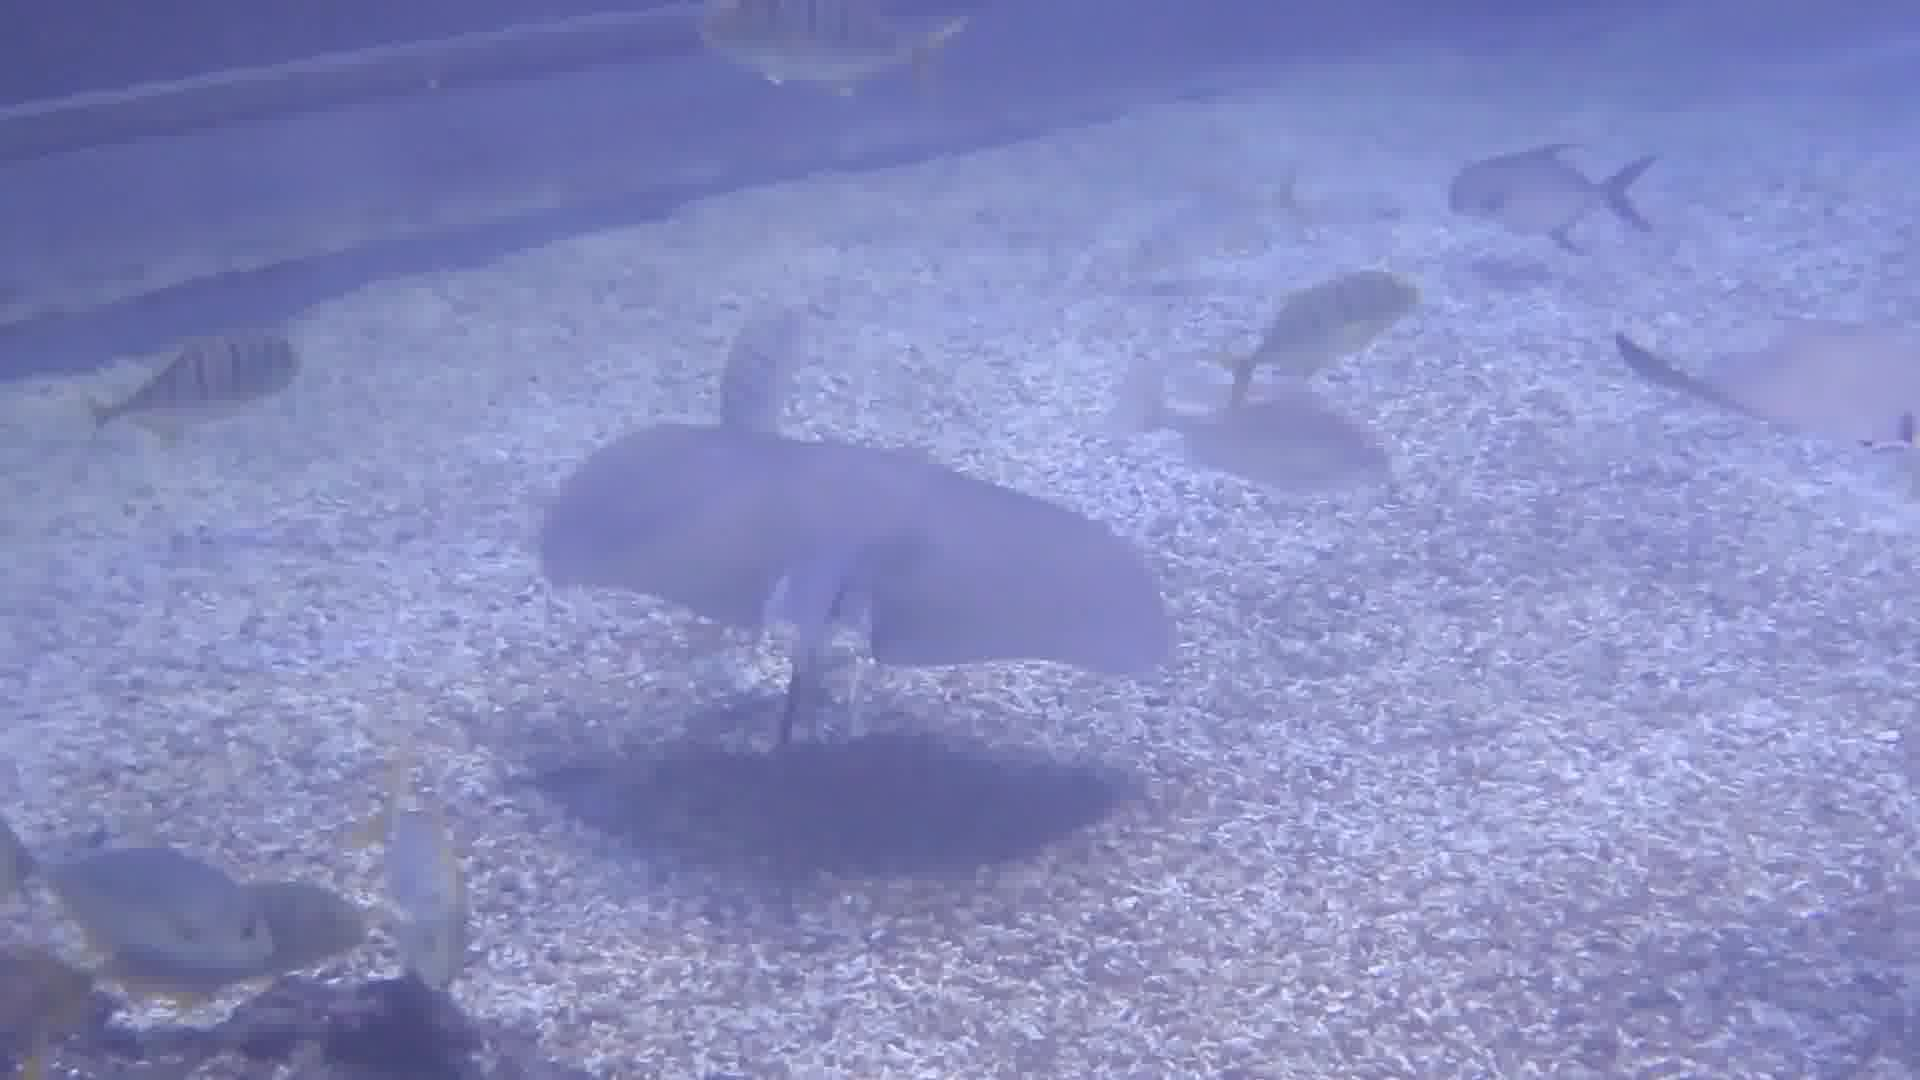Dasyatis akajei: (468, 342, 1232, 823)
